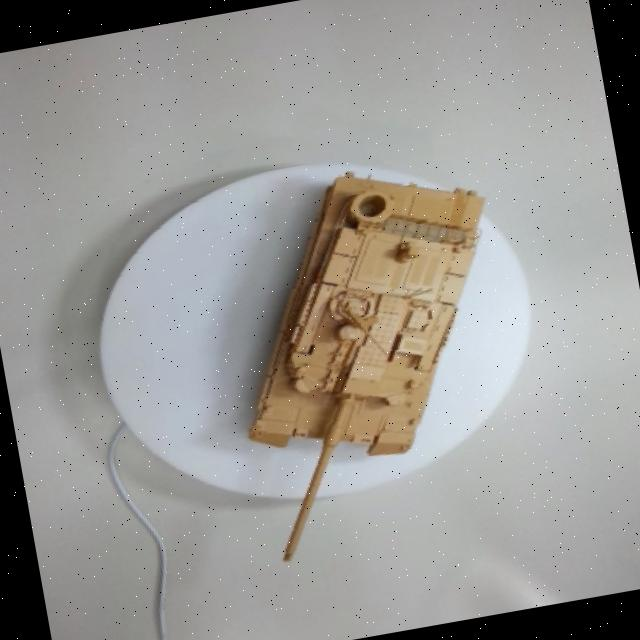korea tank: (170, 103, 556, 574)
